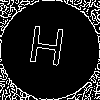H: (25, 25, 67, 76)
